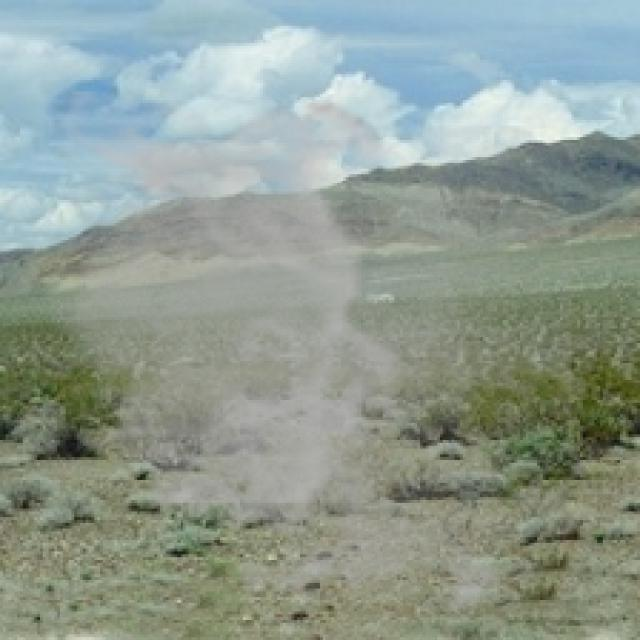Smoke: (29, 91, 572, 632)
